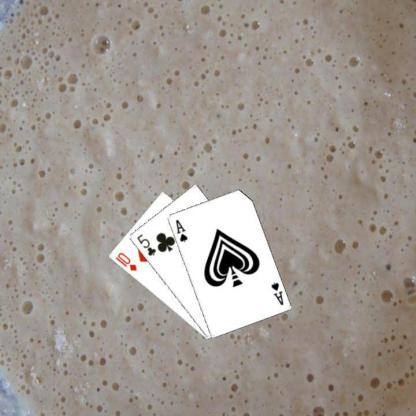10D: (112, 250, 138, 272)
5C: (134, 232, 157, 257)
AS: (268, 280, 284, 306), (173, 217, 188, 243)
